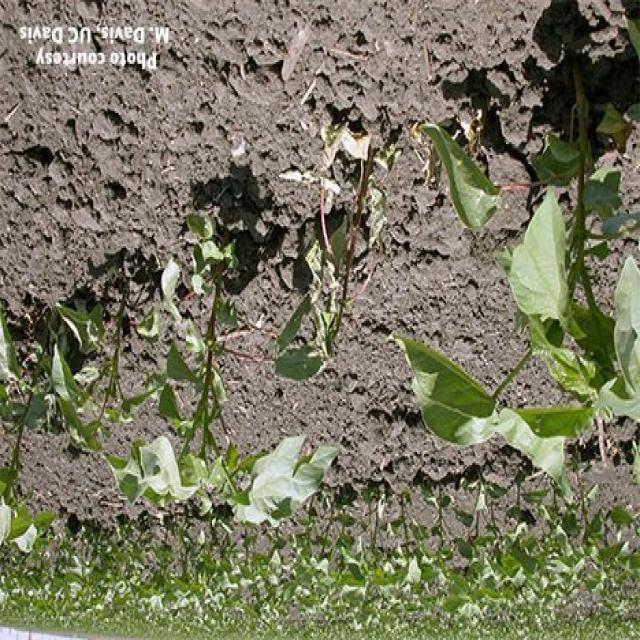Fusarium Wilt: (0, 30, 615, 640)
